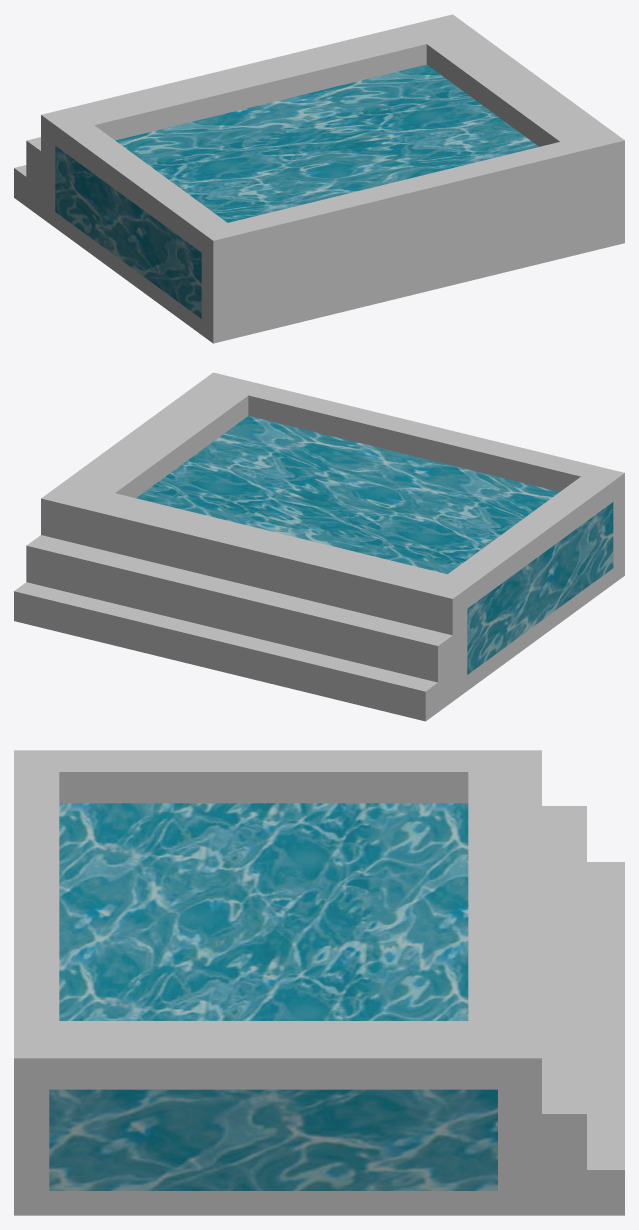
File: SEBAobj2.gltf
3 views of the same model, one above another, from view 1: azimuth 30°, elevation 25°; view 2: azimuth 150°, elevation 25°; view 3: azimuth 270°, elevation 25° (orthographic). The views are drawn at different scales.
Parts seen in each view (by area): view 1: root; view 2: root; view 3: root.
Boxes of the visible parts, <box> form: root: <box>14,14,624,343</box>; root: <box>14,372,624,721</box>; root: <box>14,750,624,1215</box>.
Bounding box in the file's own units: 3.25 × 0.775 × 2.73.
Materials: 2 (1 with a texture image).
